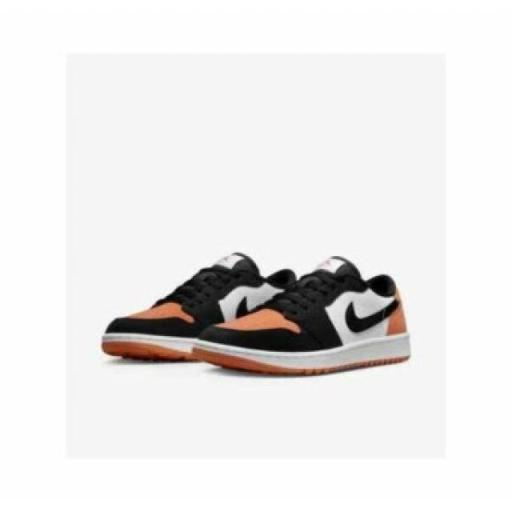Nike: (342, 296, 404, 334)
